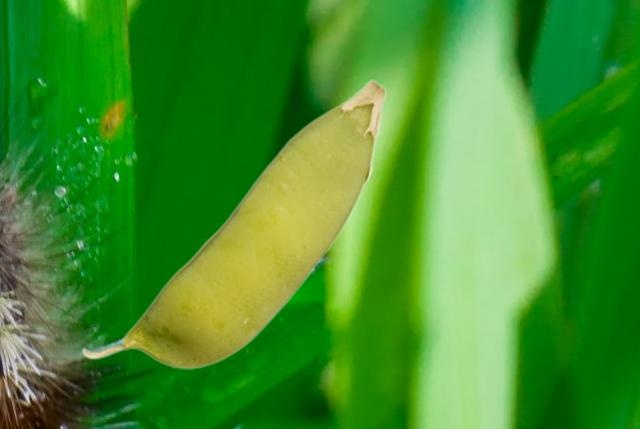pea: (81, 79, 386, 368)
